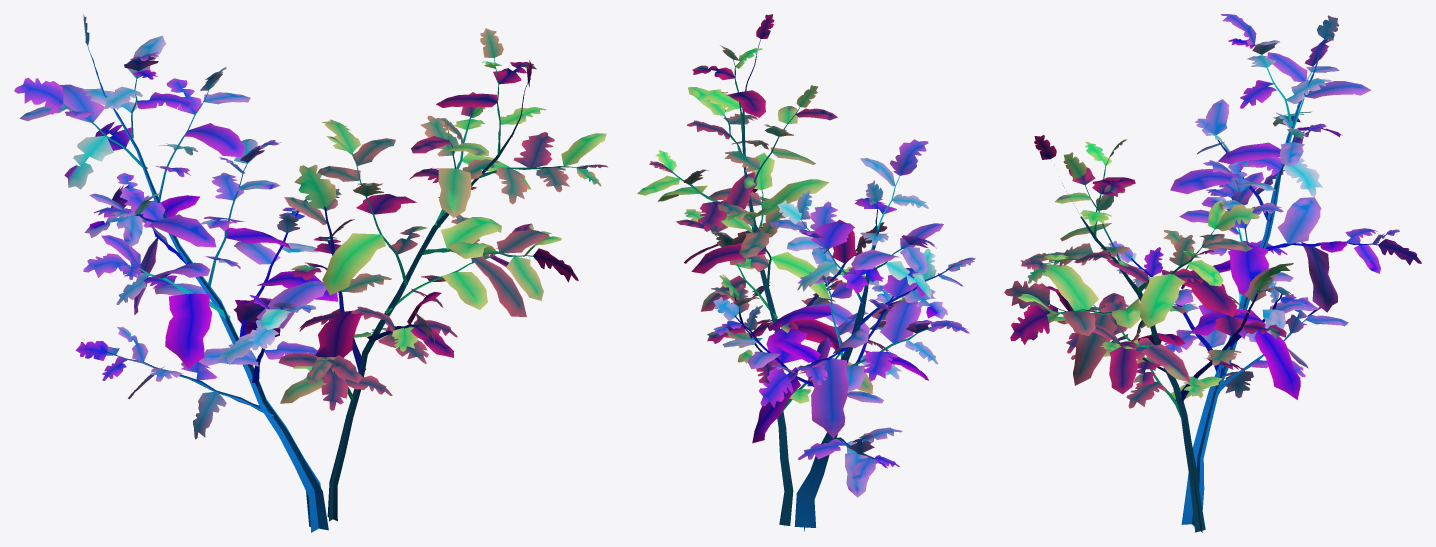
The model's file is Black_Locust_wdvhberja_Mid_wdvhberja_VarB_LOD1.fbx.
3 renders of one model, left to right at view 1: azimuth 30°, elevation 25°; view 2: azimuth 150°, elevation 25°; view 3: azimuth 270°, elevation 25°, orthographic. The views are drawn at different scales.
Parts seen in each view (by area): view 1: _at7f_VarB_LOD2; view 2: _at7f_VarB_LOD2; view 3: _at7f_VarB_LOD2.
Boxes of the visible parts, x1,y1,x2,y2 form: _at7f_VarB_LOD2: (14, 14, 607, 532); _at7f_VarB_LOD2: (637, 14, 975, 531); _at7f_VarB_LOD2: (1004, 14, 1421, 532).
Size of the model in its own units: 110 by 120 by 102.
